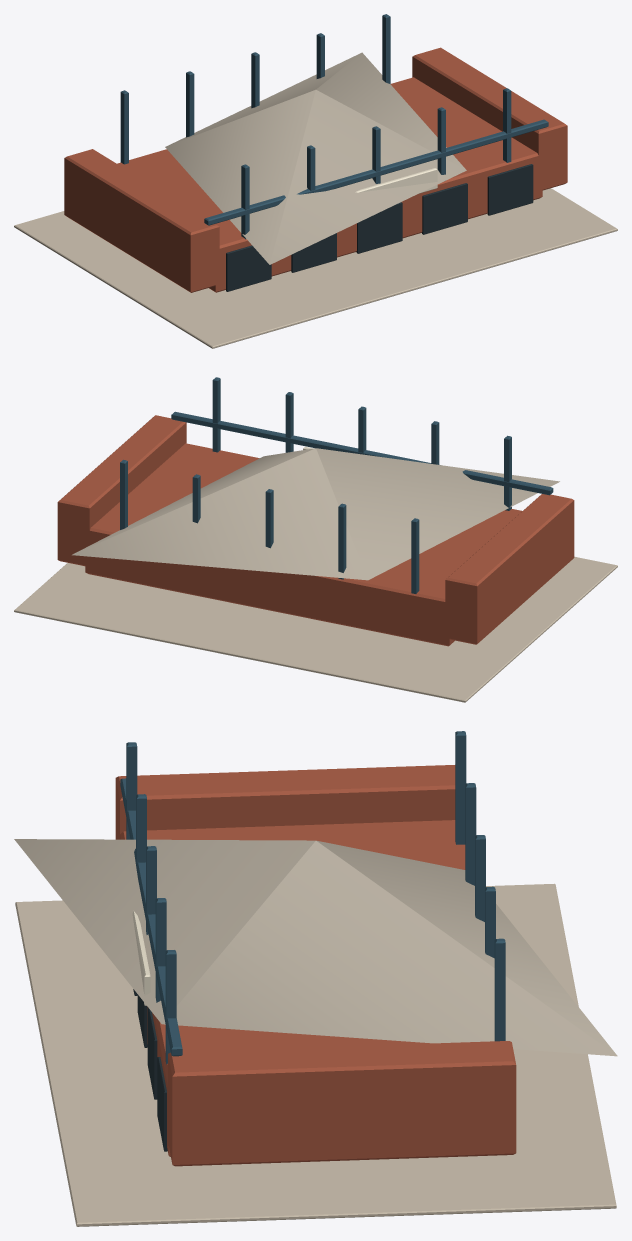
Rendered from mercado-da-aerolandia.glb.
The picture shows the model from 3 angles, top to bottom: view 1: azimuth 30°, elevation 25°; view 2: azimuth 150°, elevation 25°; view 3: azimuth 270°, elevation 25°; orthographic projection. The views are drawn at different scales.
Visible parts, largest first — view 1: Cobertura_Principal, Piso_Mercado, Ala_Lateral_0, Pavilhao_Baixo, Ala_Lateral_1, Trelica_Frontal, Vao_Frontal_4, Vao_Frontal_3, Vao_Frontal_2, Vao_Frontal_0, Vao_Frontal_1, Letreiro_Mercado (+8 smaller); view 2: Cobertura_Principal, Piso_Mercado, Pavilhao_Baixo, Ala_Lateral_0, Ala_Lateral_1, Trelica_Frontal, Portico_Coluna_O_0, Portico_Coluna_E_4, Portico_Coluna_O_1, Portico_Coluna_O_4, Portico_Coluna_E_0, Portico_Coluna_O_2 (+1 smaller); view 3: Cobertura_Principal, Piso_Mercado, Ala_Lateral_1, Ala_Lateral_0, Pavilhao_Baixo, Trelica_Frontal, Portico_Coluna_O_0, Portico_Coluna_O_4, Portico_Coluna_O_1, Portico_Coluna_E_4, Portico_Coluna_E_3, Portico_Coluna_O_2 (+7 smaller).
Boxes of the visible parts, x1,y1,x2,y2 form: Cobertura_Principal: (165, 52, 466, 264); Piso_Mercado: (14, 188, 617, 348); Ala_Lateral_0: (64, 149, 219, 292); Pavilhao_Baixo: (117, 77, 542, 292); Ala_Lateral_1: (412, 47, 567, 190); Trelica_Frontal: (204, 119, 548, 225); Vao_Frontal_4: (487, 164, 533, 215); Vao_Frontal_3: (422, 183, 467, 234); Vao_Frontal_2: (356, 202, 402, 253); Vao_Frontal_0: (226, 245, 271, 291); Vao_Frontal_1: (291, 233, 336, 272); Letreiro_Mercado: (355, 168, 437, 193); Cobertura_Principal: (72, 448, 559, 580); Piso_Mercado: (14, 556, 617, 702); Pavilhao_Baixo: (85, 443, 522, 646); Ala_Lateral_0: (445, 494, 574, 644); Ala_Lateral_1: (57, 415, 186, 566); Trelica_Frontal: (171, 411, 553, 495); Portico_Coluna_O_0: (411, 518, 419, 593); Portico_Coluna_E_4: (212, 377, 220, 452); Portico_Coluna_O_1: (338, 503, 346, 579); Portico_Coluna_O_4: (120, 459, 127, 529); Portico_Coluna_E_0: (504, 435, 511, 510); Portico_Coluna_O_2: (265, 489, 273, 548); Cobertura_Principal: (14, 839, 617, 1056); Piso_Mercado: (15, 883, 616, 1226); Ala_Lateral_1: (168, 1041, 516, 1166); Ala_Lateral_0: (115, 765, 455, 839); Pavilhao_Baixo: (119, 820, 465, 1156); Trelica_Frontal: (120, 778, 182, 1056); Portico_Coluna_O_0: (455, 731, 466, 844); Portico_Coluna_O_4: (494, 938, 505, 1041); Portico_Coluna_O_1: (465, 783, 476, 885); Portico_Coluna_E_4: (165, 950, 176, 1064); Portico_Coluna_E_3: (155, 898, 166, 1002); Portico_Coluna_O_2: (475, 835, 485, 921).
Size of what is drawn, in the model's own units: 32.66 by 9.71 by 24.52.
